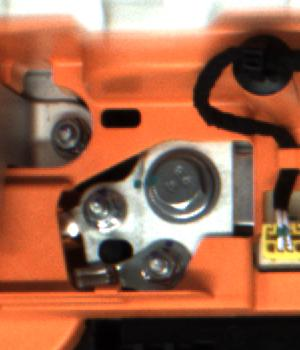nut_b: (139, 148, 224, 222)
